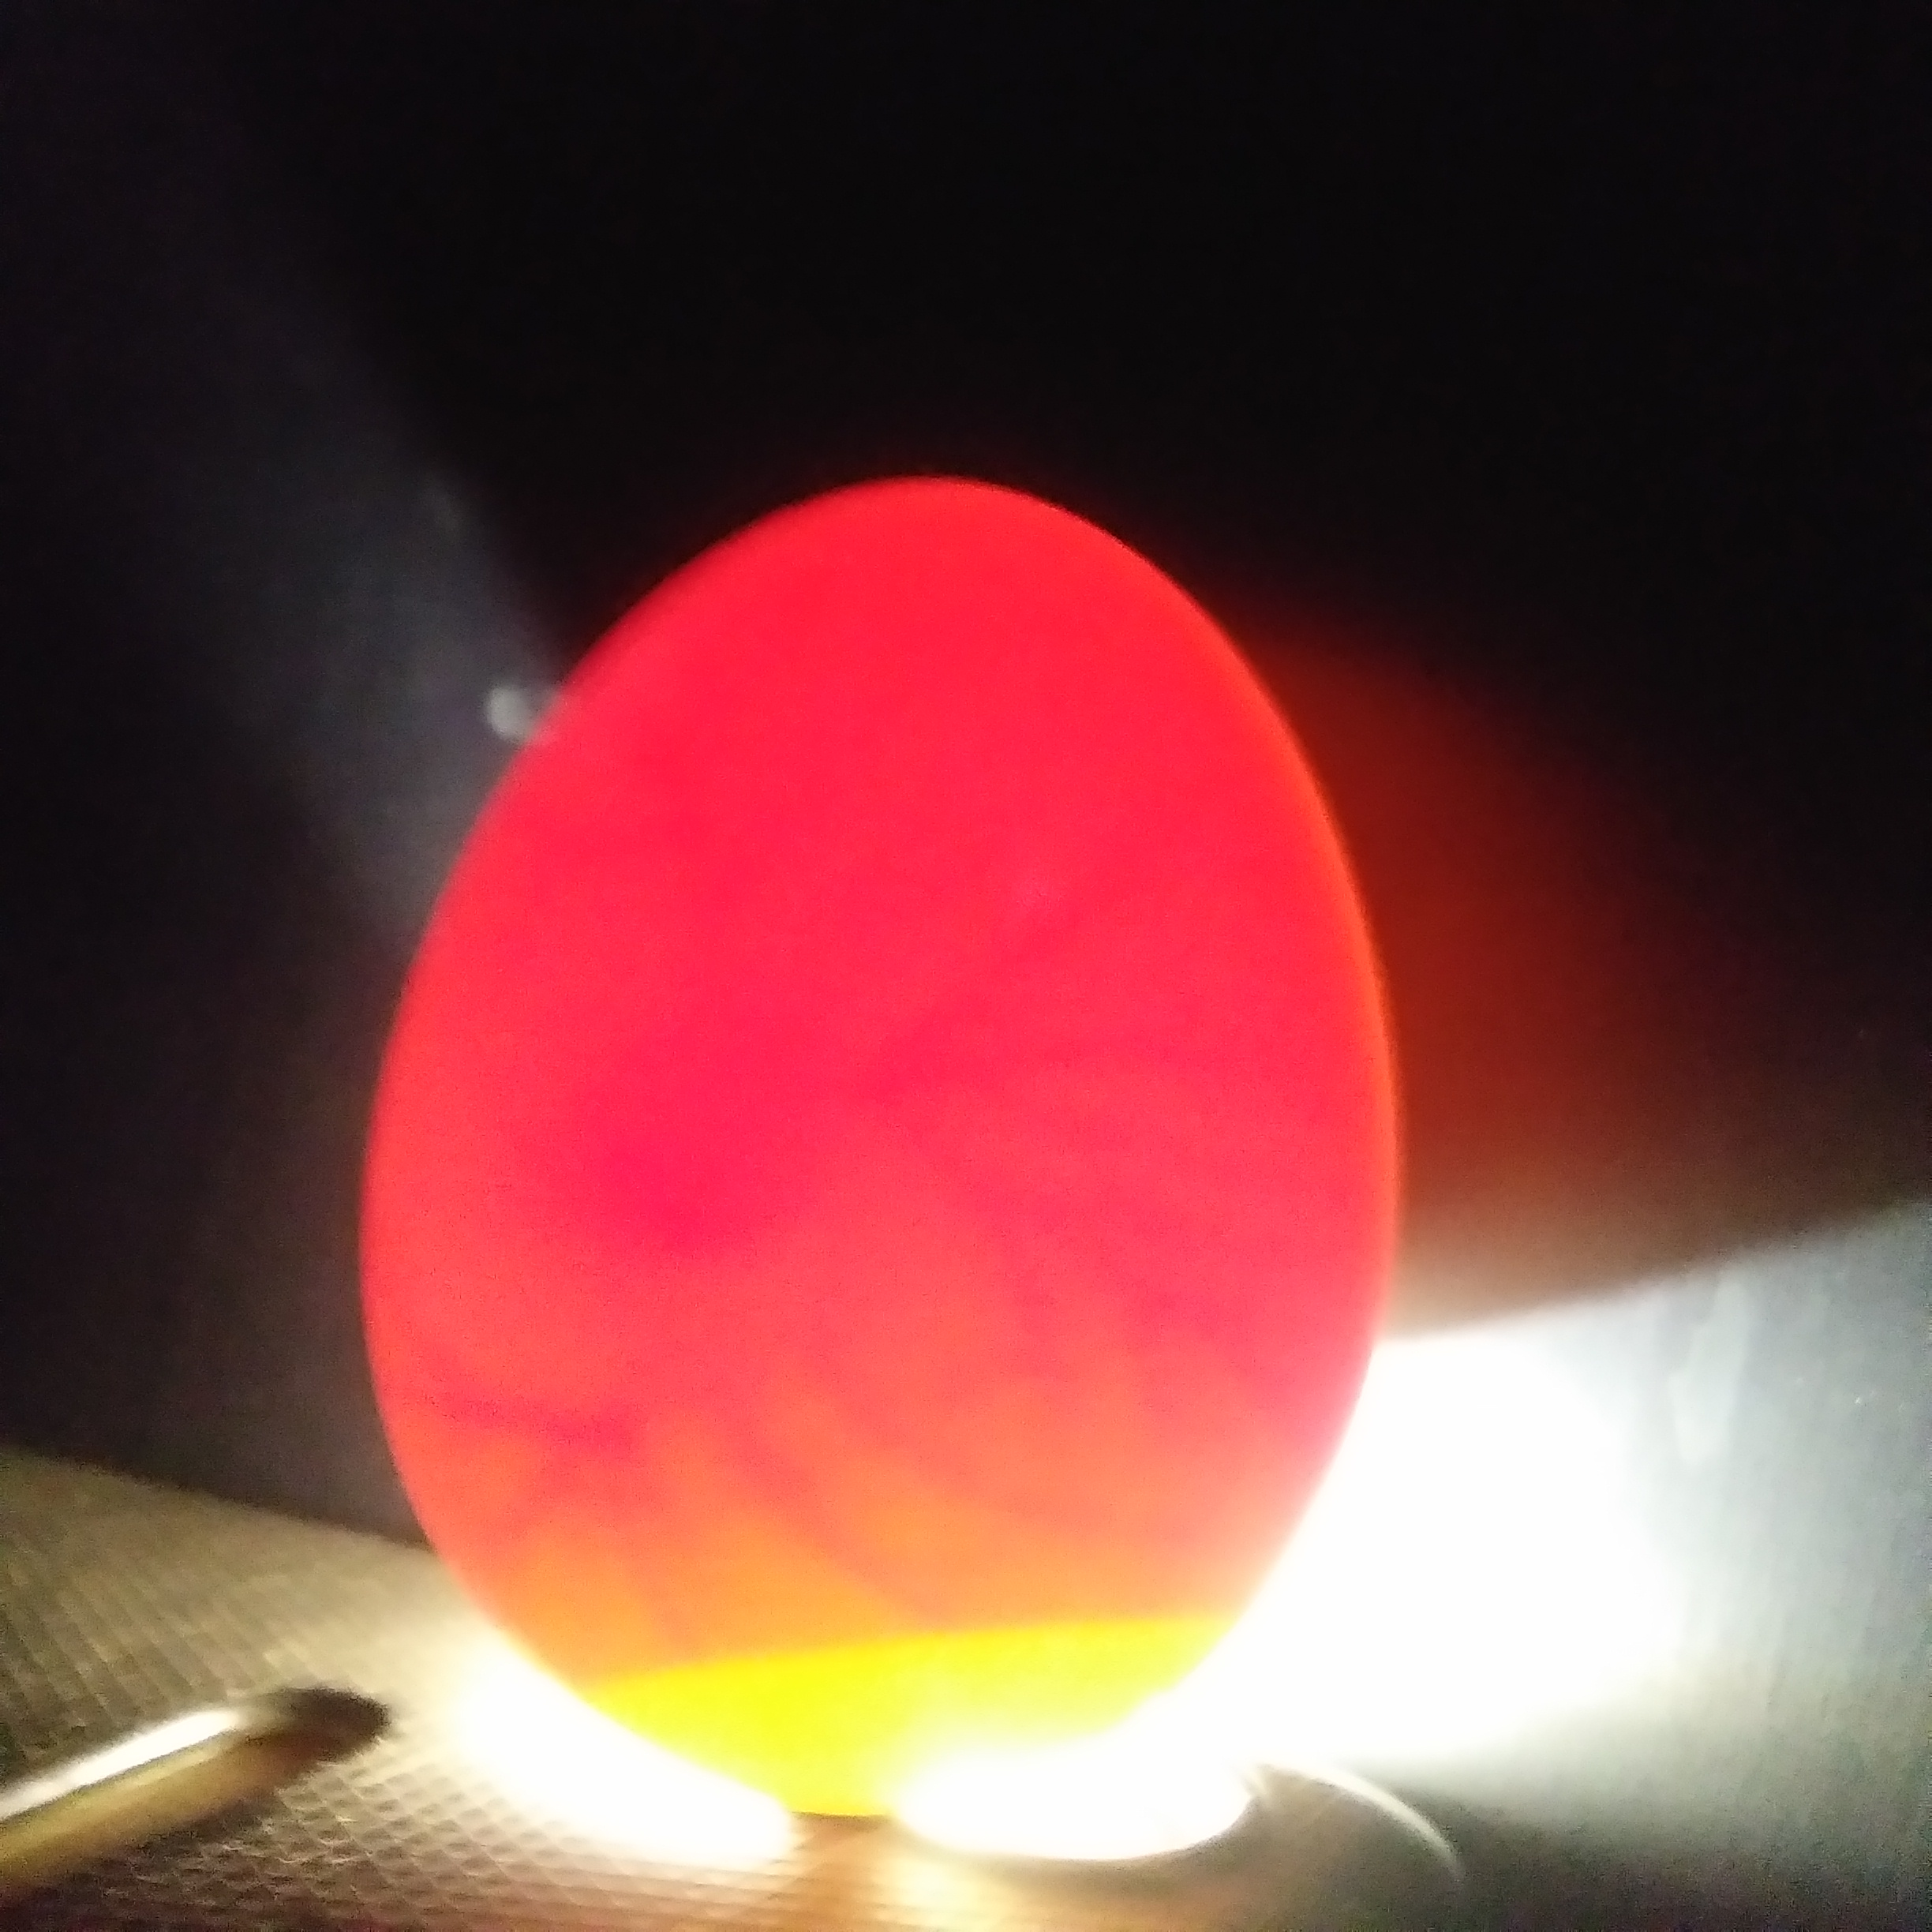bloodcell: (409, 1254, 1169, 1617), (915, 962, 1309, 1235)
embryo: (552, 1003, 856, 1223)
